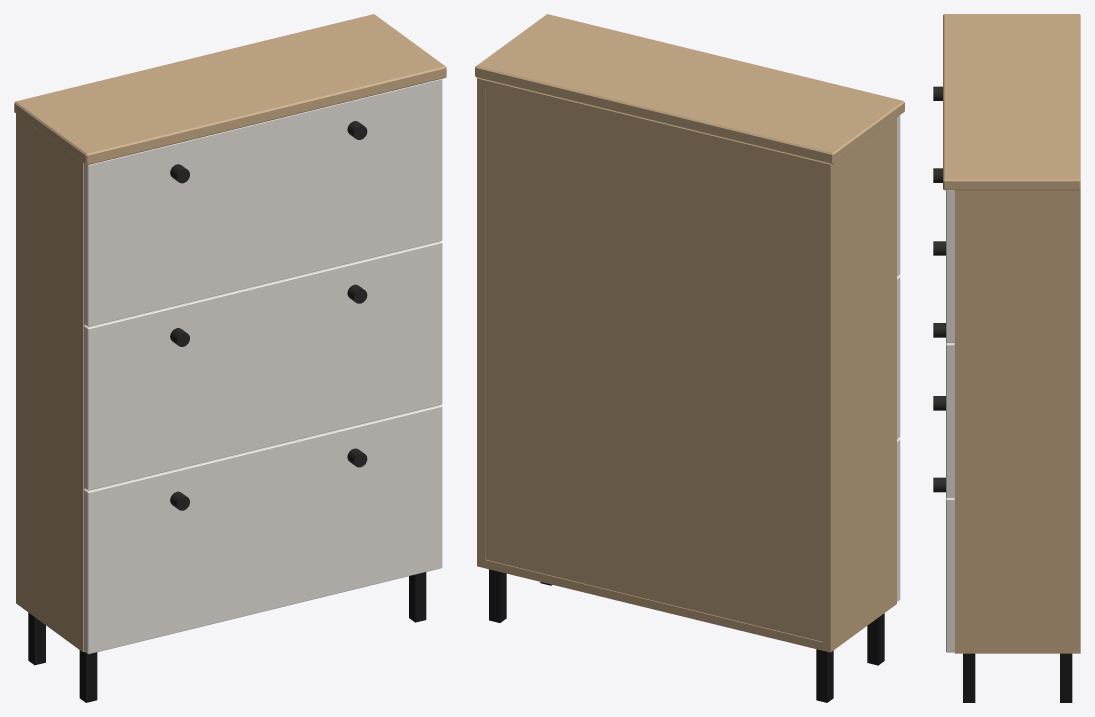
Rendered from 27_szafka_buty_80.glb.
3 views of the same model, side by side, from view 1: azimuth 30°, elevation 25°; view 2: azimuth 150°, elevation 25°; view 3: azimuth 270°, elevation 25° (orthographic). The views are drawn at different scales.
Parts seen in each view (by area): view 1: Front_klapa_3, Front_klapa_2, Front_klapa_1, Korpus, Wierzch, Nogi, Uchwyty; view 2: Korpus, Wierzch, Nogi; view 3: Korpus, Wierzch, Front_klapa_3, Front_klapa_2, Front_klapa_1, Nogi, Uchwyty.
Boxes of the visible parts, <box> form: Front_klapa_3: <box>84,405,442,654</box>; Front_klapa_2: <box>84,241,442,490</box>; Front_klapa_1: <box>84,79,442,326</box>; Korpus: <box>16,114,85,651</box>; Wierzch: <box>14,14,446,165</box>; Nogi: <box>28,572,426,702</box>; Uchwyty: <box>170,121,367,510</box>; Korpus: <box>477,78,896,652</box>; Wierzch: <box>475,14,904,164</box>; Nogi: <box>489,569,884,702</box>; Korpus: <box>954,189,1080,653</box>; Wierzch: <box>943,14,1080,190</box>; Front_klapa_3: <box>946,497,954,652</box>; Front_klapa_2: <box>946,343,954,497</box>; Front_klapa_1: <box>946,190,954,342</box>; Nogi: <box>963,653,1072,702</box>; Uchwyty: <box>933,86,945,492</box>.
Size of the model in its own units: 0.812 by 1.2 by 0.304.
